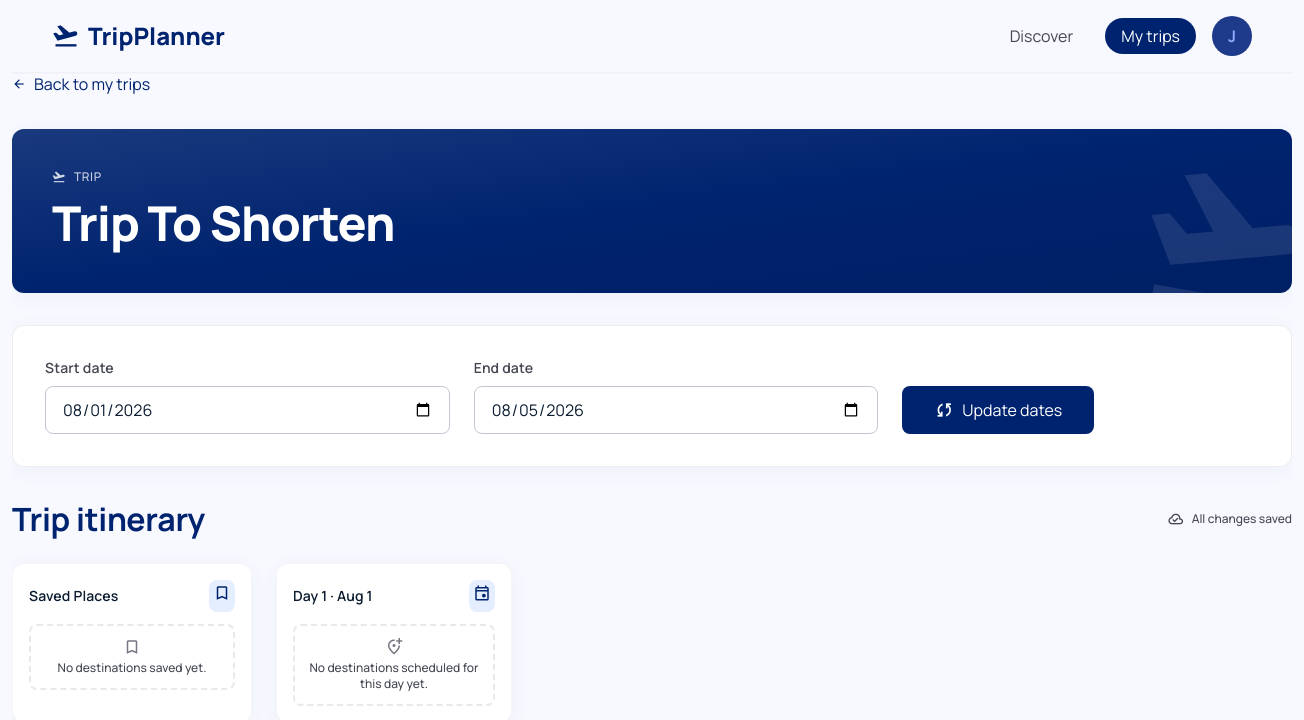
TripPlannerPage › surfaces the DestinationsUnscheduled warning when dates are shortened
expect the heading "Trip To Shorten" is shown: met, box [52,190,395,255]
Type "2026-08-01" into the date field labelled "End date" at (676, 410), box [474,386,878,434]
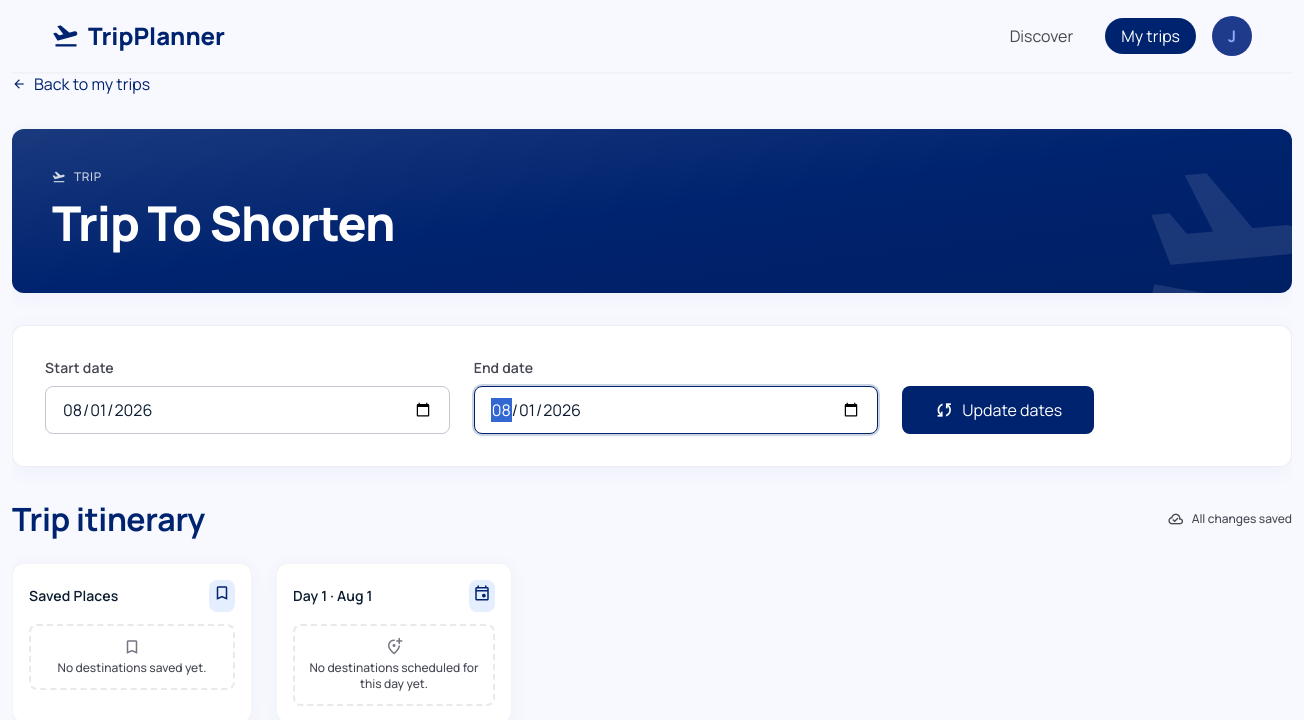
Click the button "Update dates" at (998, 410), box [902,386,1094,434]
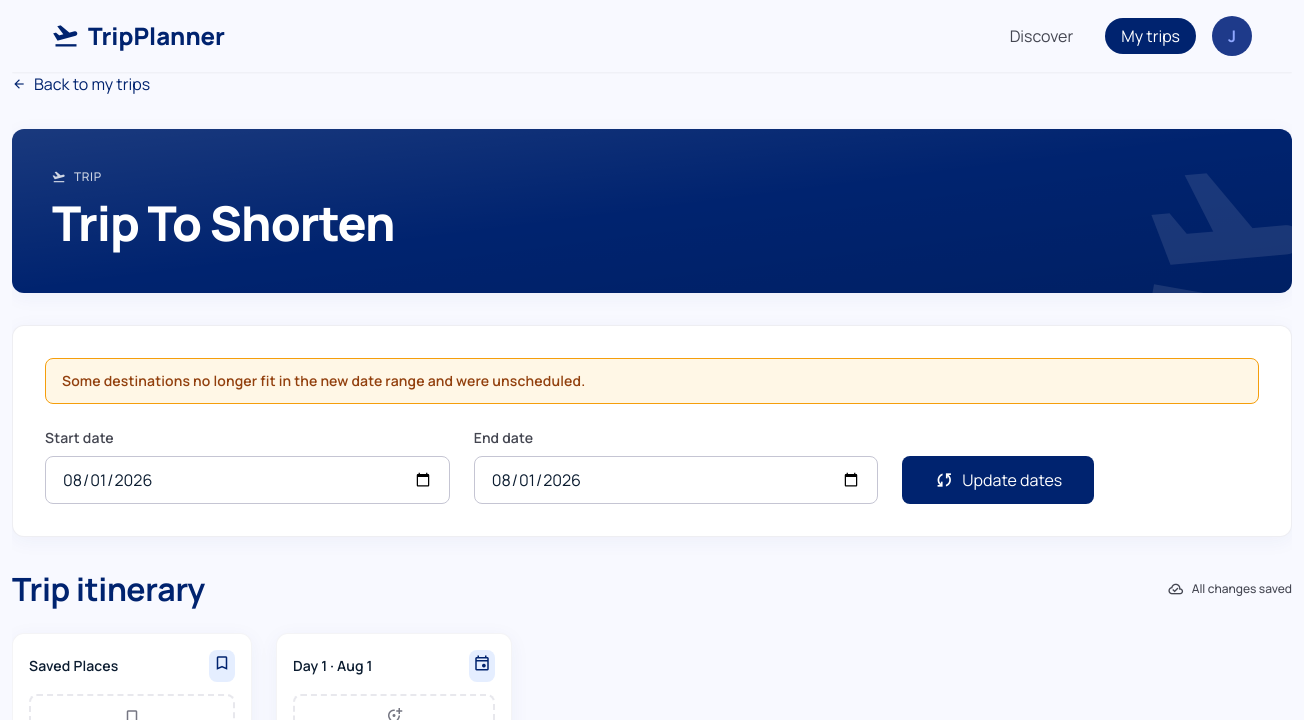
expect the text "Some destinations no longer fit in the new date range and were unscheduled." is shown: met, box [45,358,1259,404]
